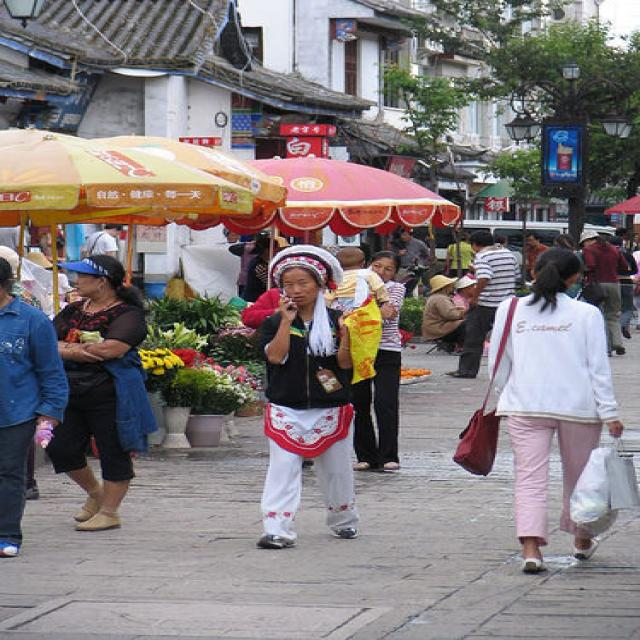Vehicle: (434, 220, 617, 259), (433, 219, 568, 261), (630, 251, 640, 296)
